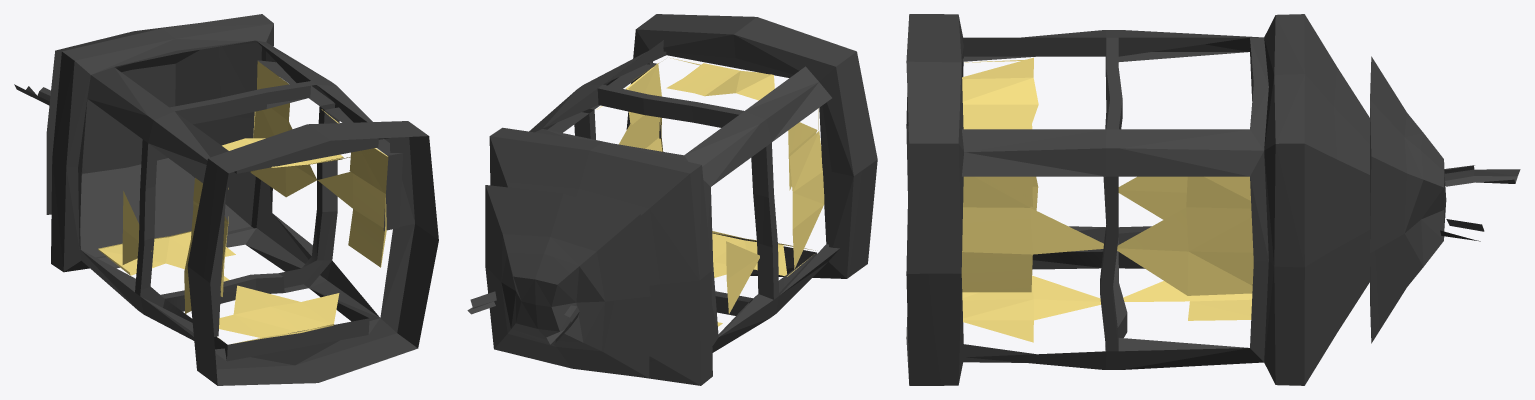
File: LanternBrokenLamp.fbx
3 renders of one model, left to right at view 1: azimuth 30°, elevation 25°; view 2: azimuth 150°, elevation 25°; view 3: azimuth 270°, elevation 25°, orthographic. The views are drawn at different scales.
Visible parts, largest first — view 1: LanternLampBroken; view 2: LanternLampBroken; view 3: LanternLampBroken.
Part boxes in pixels (x1=…): LanternLampBroken: x1=14, y1=14, x2=438, y2=385; LanternLampBroken: x1=467, y1=14, x2=877, y2=385; LanternLampBroken: x1=906, y1=14, x2=1520, y2=385.
Size of the model in its own units: 71.48 by 71.48 by 140.
